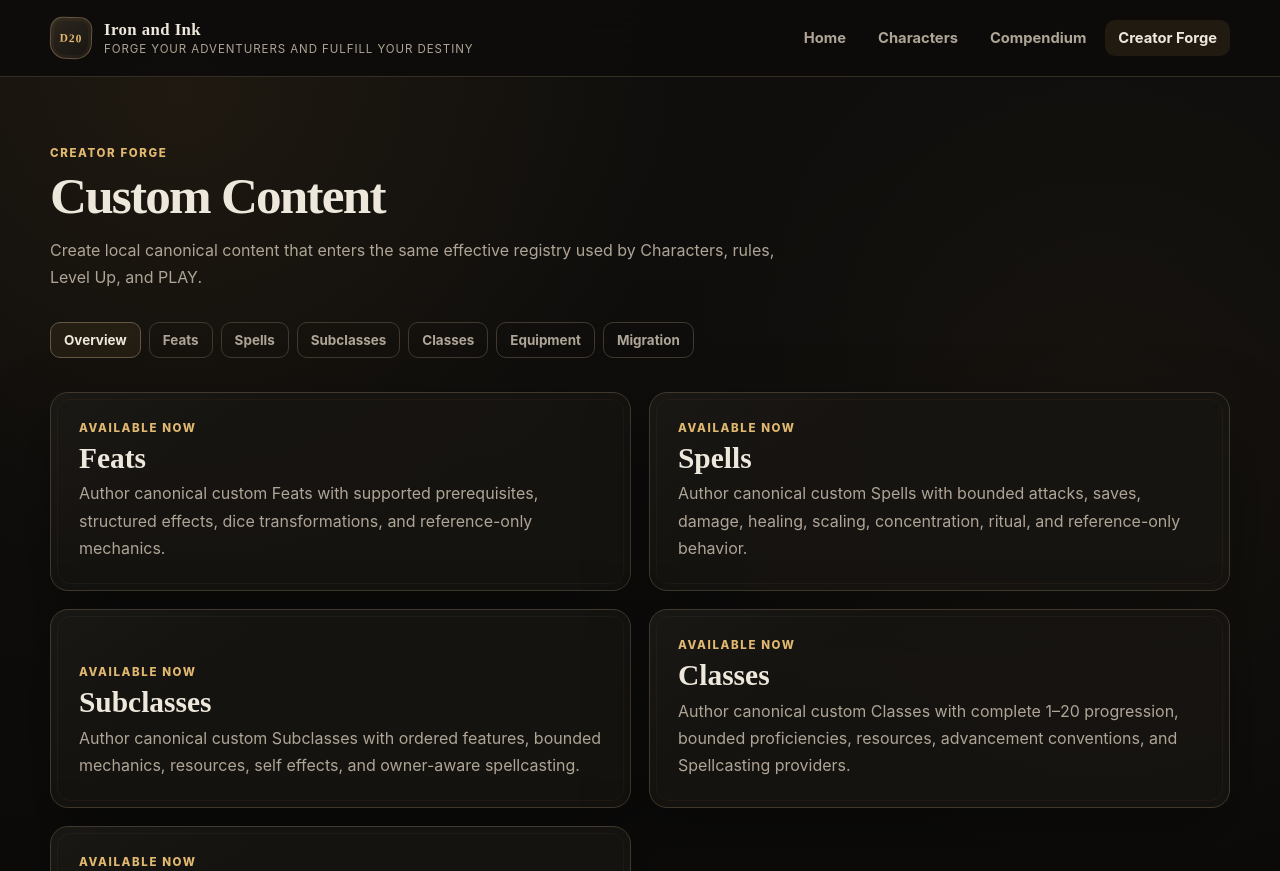
Test: M16-E Creator Forge shell and Subclass Forge UI › A preserves Subclasses while all four Creator Forge families are active after M16-F
Click the link "Subclasses" at (348, 340), box [297,322,400,358]
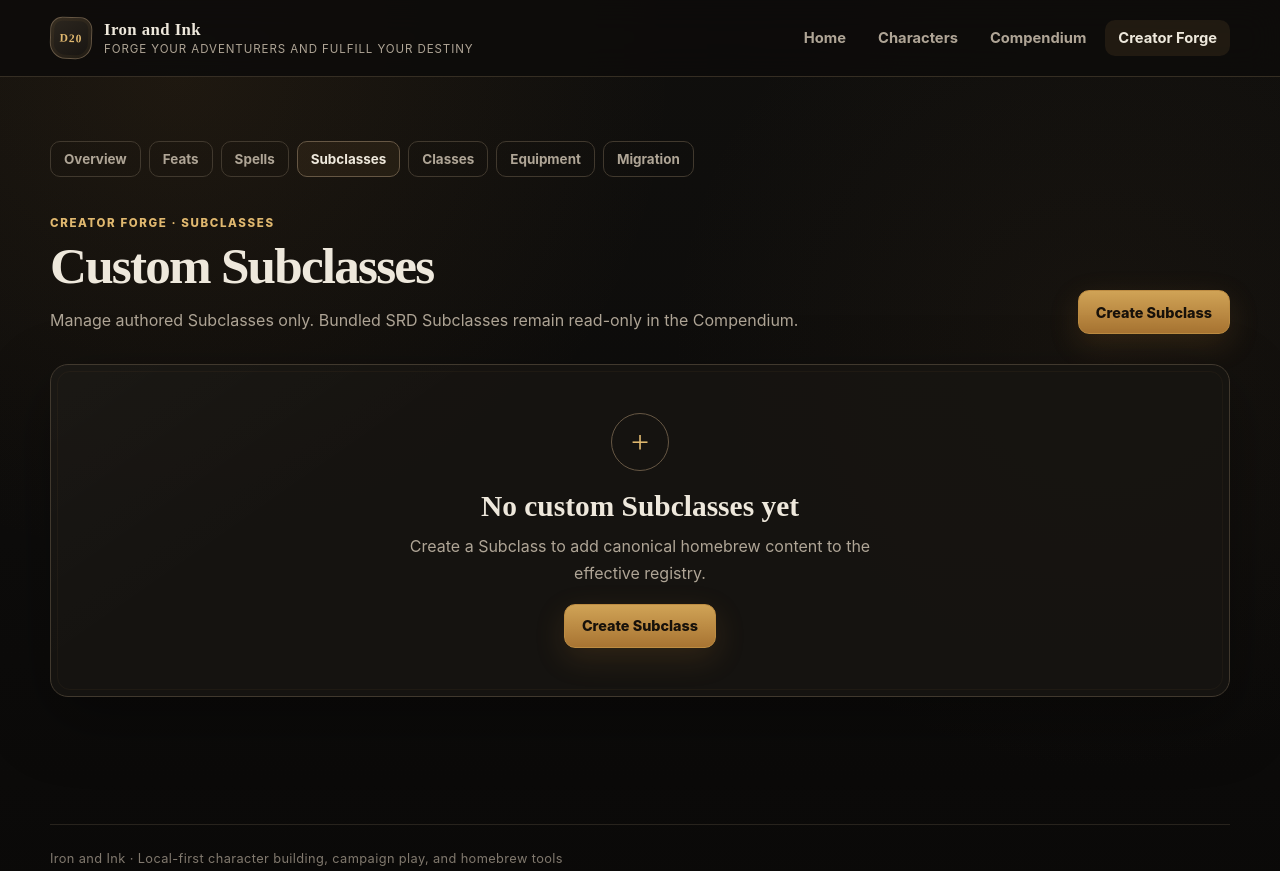
Expected: the heading "Custom Subclasses" is shown, [50,237,433,294]
Click the 1st link "Create Subclass" at (1154, 312), box [1078,290,1230,334]
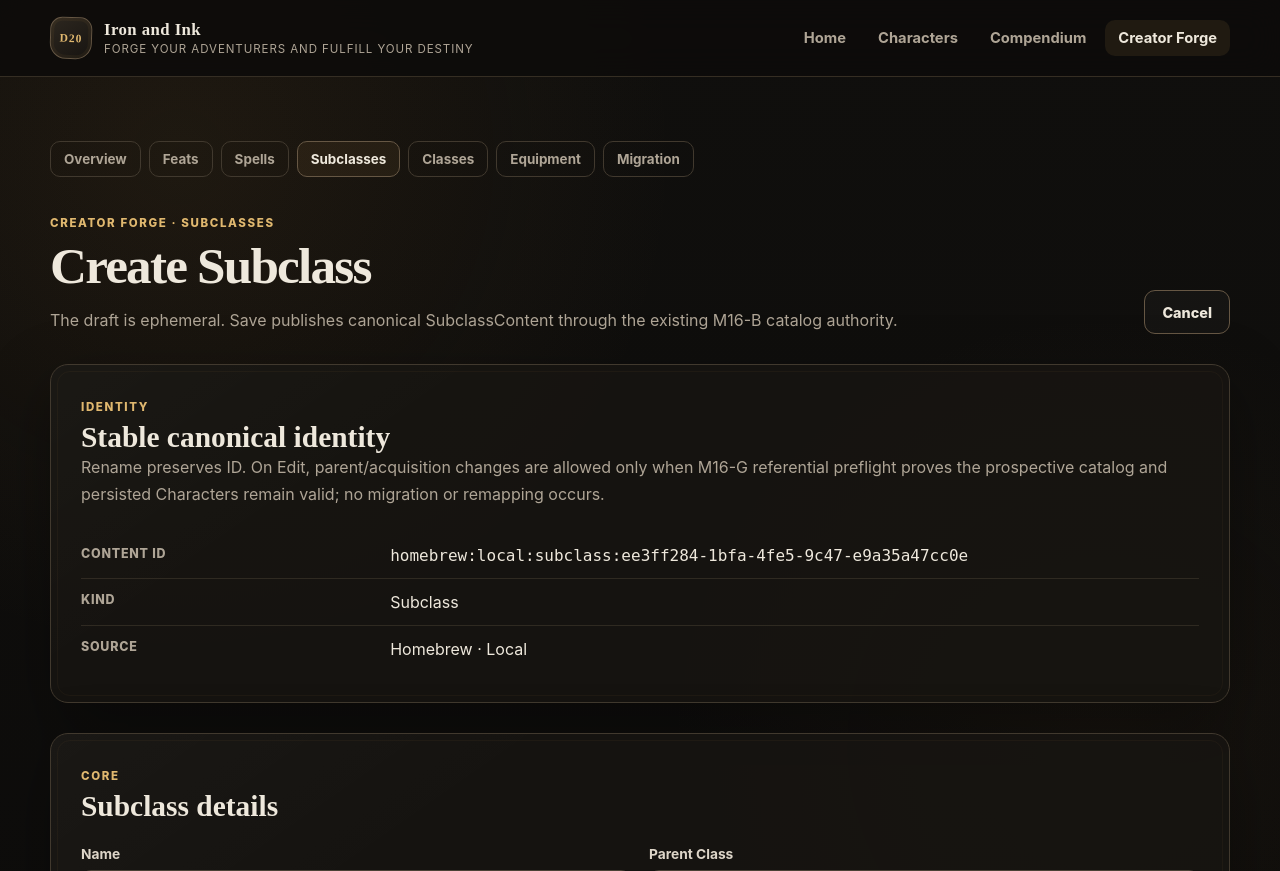
Expected: the heading "Create Subclass" is shown, [50,237,370,294]
